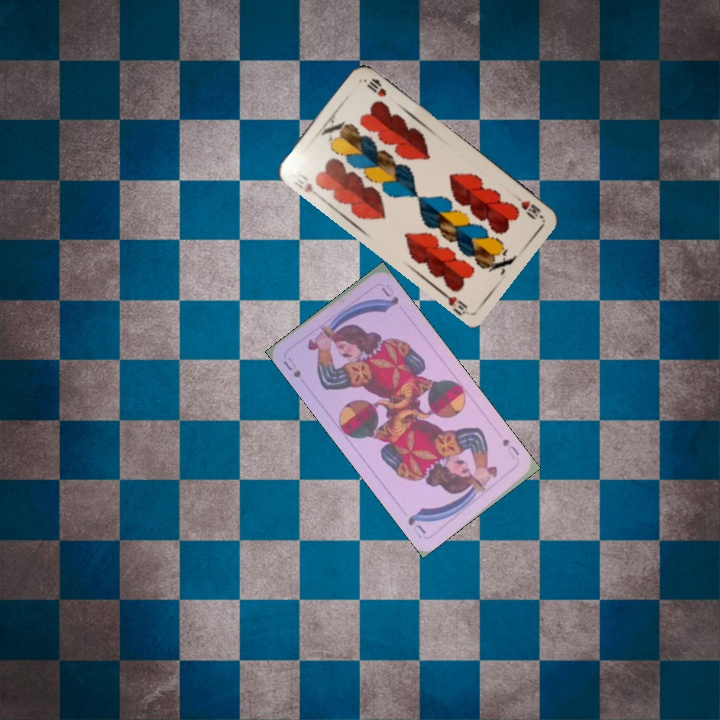H10: (290, 166, 322, 198), (510, 190, 543, 221)
SU: (279, 353, 306, 382), (498, 434, 522, 462)
